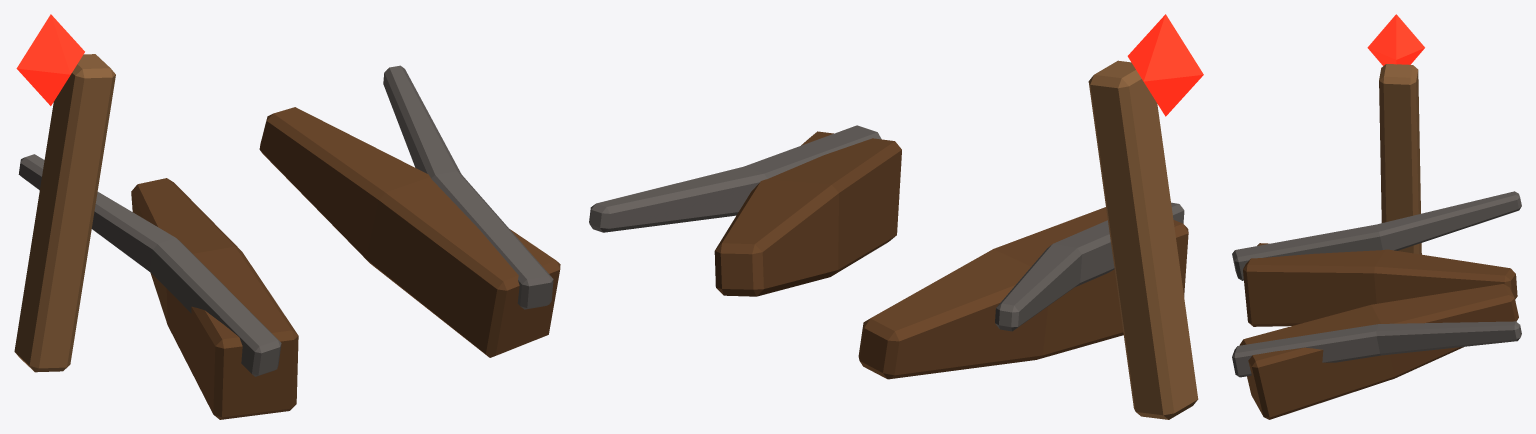
Rendered from broken_rail.glb.
3 renders of one model, left to right at view 1: azimuth 30°, elevation 25°; view 2: azimuth 150°, elevation 25°; view 3: azimuth 270°, elevation 25°, orthographic. The views are drawn at different scales.
Visible parts, largest first — view 1: GEO_wooddark, GEO_iron, GEO_wood, GEO_hazard; view 2: GEO_wooddark, GEO_wood, GEO_iron, GEO_hazard; view 3: GEO_wooddark, GEO_iron, GEO_wood, GEO_hazard.
Boxes of the visible parts, x1,y1,x2,y2 form: GEO_wooddark: (131, 107, 560, 419); GEO_iron: (18, 65, 553, 376); GEO_wood: (14, 54, 115, 372); GEO_hazard: (16, 14, 84, 105); GEO_wooddark: (714, 131, 1188, 379); GEO_wood: (1088, 60, 1198, 419); GEO_iron: (589, 125, 1184, 331); GEO_hazard: (1127, 14, 1203, 116); GEO_wooddark: (1239, 243, 1518, 419); GEO_iron: (1232, 191, 1521, 377); GEO_wood: (1379, 64, 1421, 254); GEO_hazard: (1367, 14, 1424, 65).
Size of the model in its own units: 1.92 by 1.4 by 1.4.
